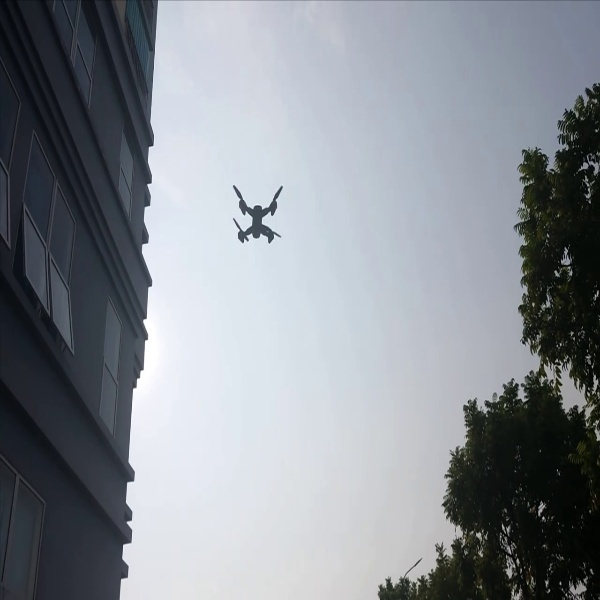drone: (223, 176, 293, 250)
